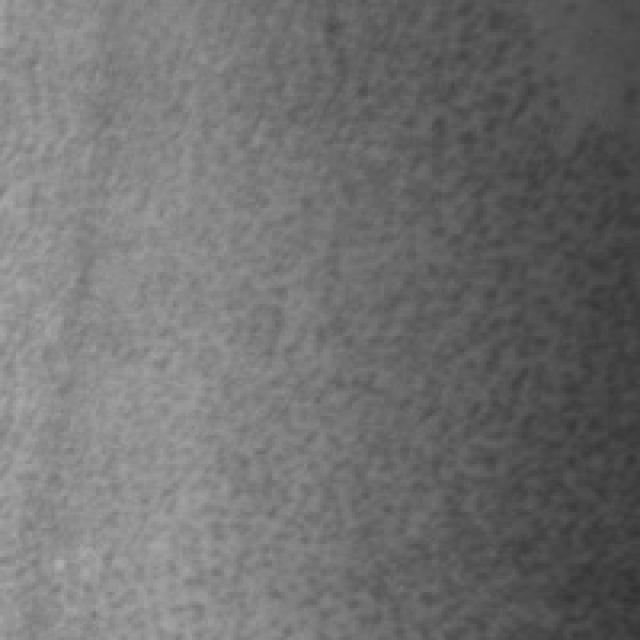pitted_surface: (259, 3, 627, 634)
